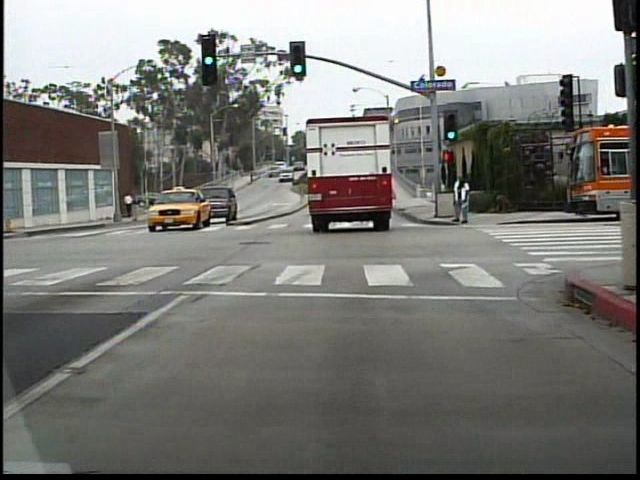person: (448, 175, 473, 228), (122, 188, 139, 220)
